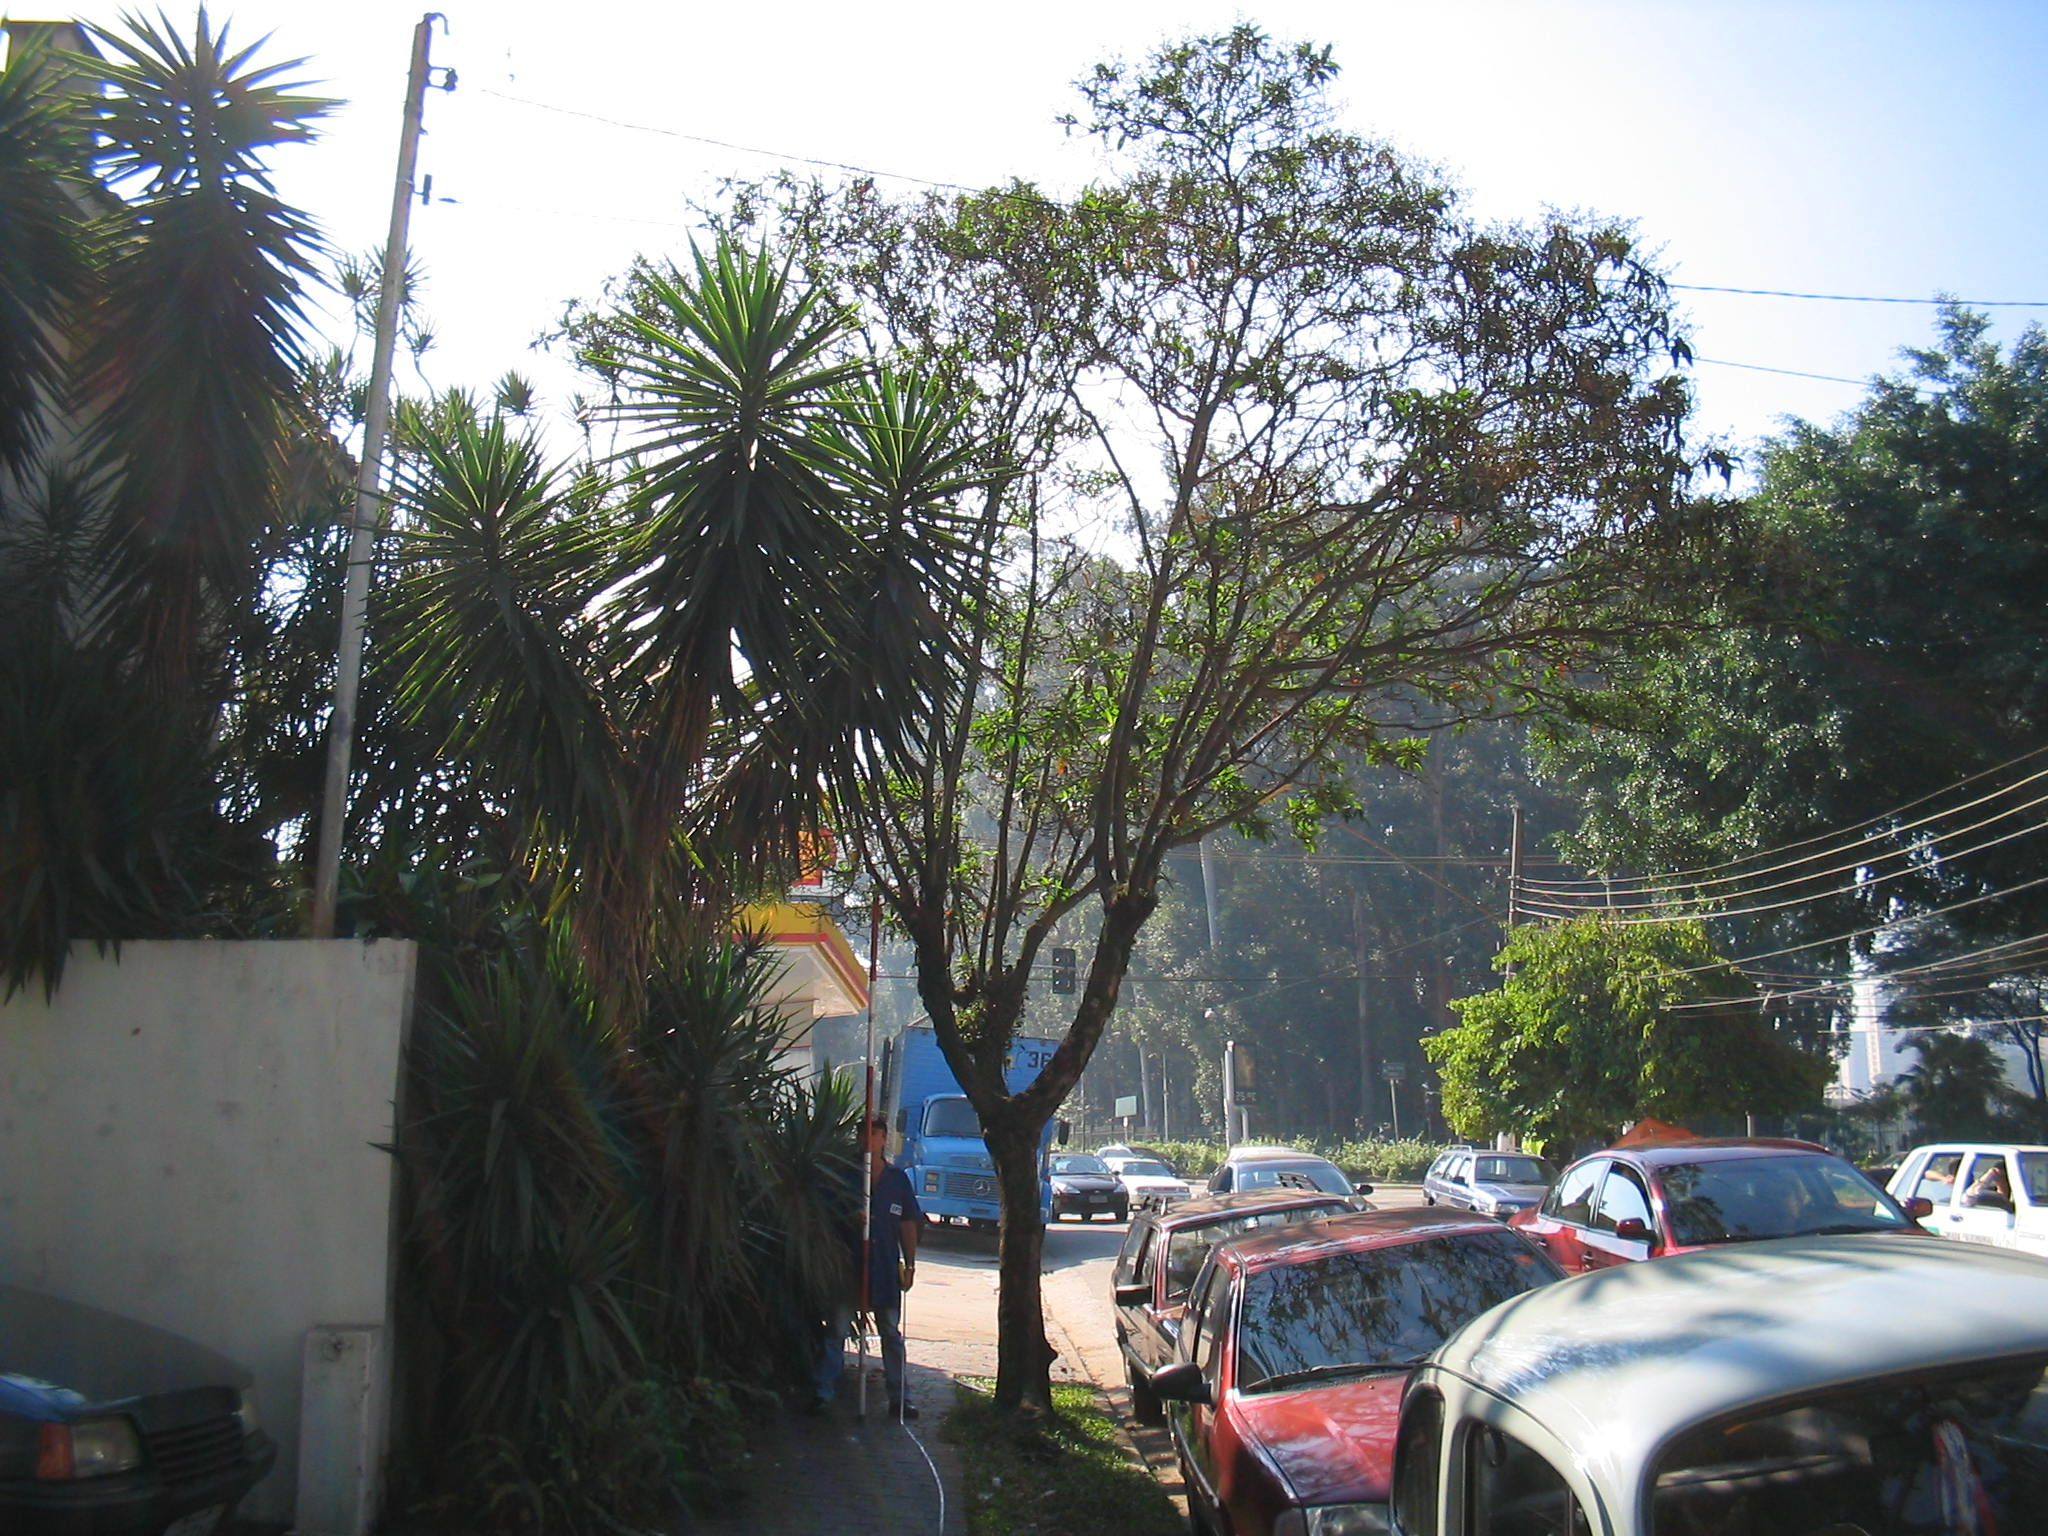crown: (540, 23, 1813, 939)
stem: (951, 1126, 1082, 1426)
stick: (847, 897, 892, 1421)
tree: (535, 18, 1825, 1430)
